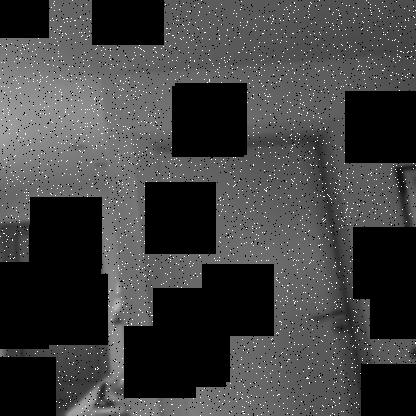Porte: (128, 114, 402, 416)
